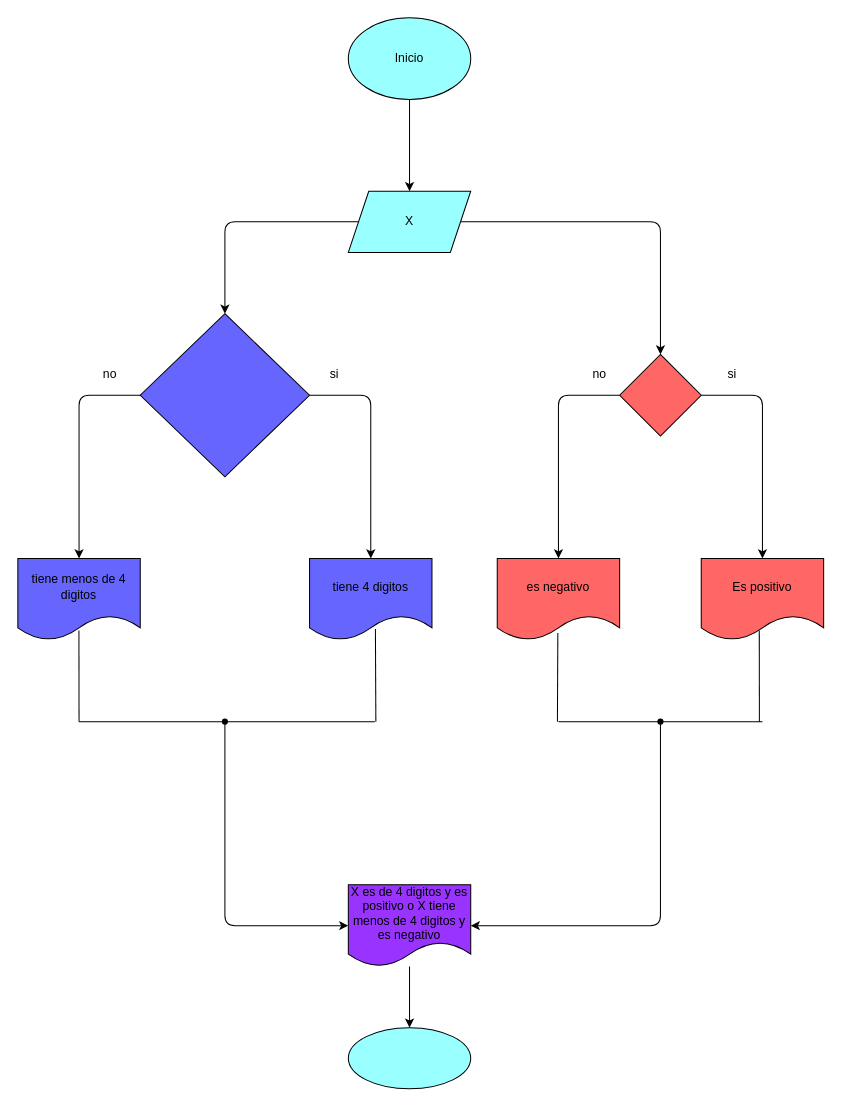
This 842x1107 diagram has some shape labels left out. Each missing label, with the box of its shape:
Fin: (347, 1027, 471, 1089)
X > 0: (619, 353, 701, 436)
X >= 1000 y X <= 9999: (139, 313, 310, 477)
